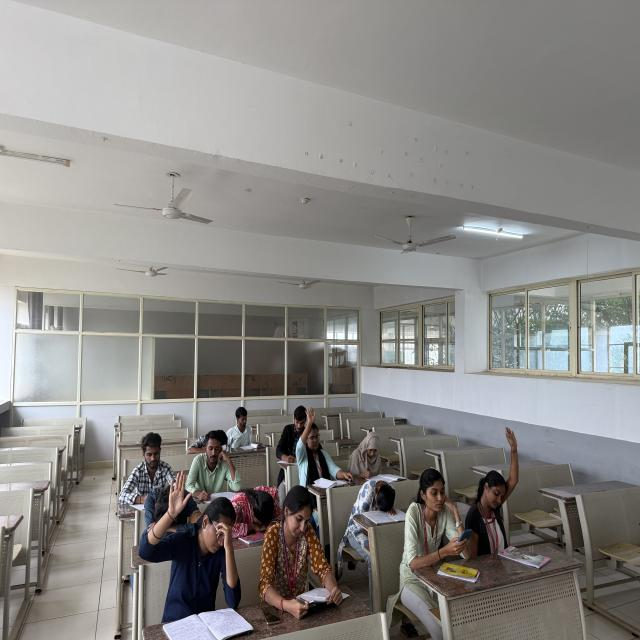Hand Rising: (138, 468, 243, 620), (461, 422, 526, 560), (295, 405, 347, 484)
Reading: (258, 480, 348, 619), (230, 403, 258, 453)
Sleeping: (347, 472, 407, 532), (141, 481, 200, 534), (233, 482, 283, 539), (215, 425, 234, 456)
Using Phone: (401, 461, 473, 592), (117, 429, 174, 511)
Writing: (187, 429, 244, 507), (348, 424, 404, 484), (273, 403, 308, 472)
